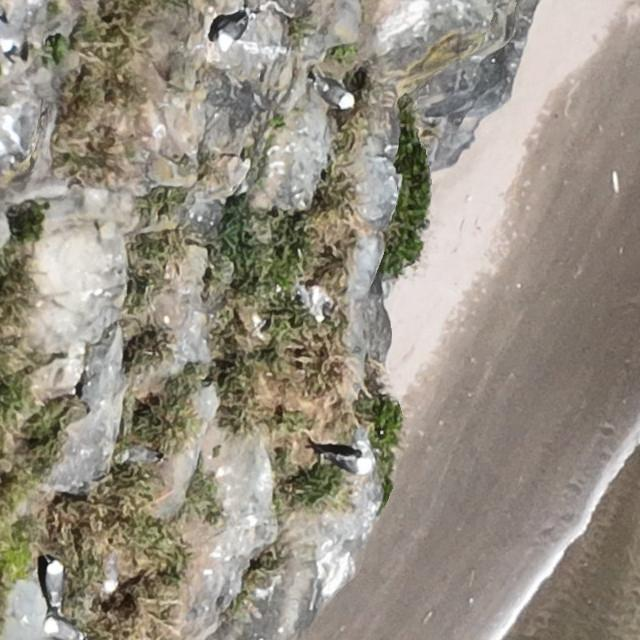umineko: (101, 551, 121, 594), (321, 82, 353, 108), (46, 561, 64, 602), (218, 19, 244, 45), (332, 453, 364, 471), (50, 620, 80, 639)
